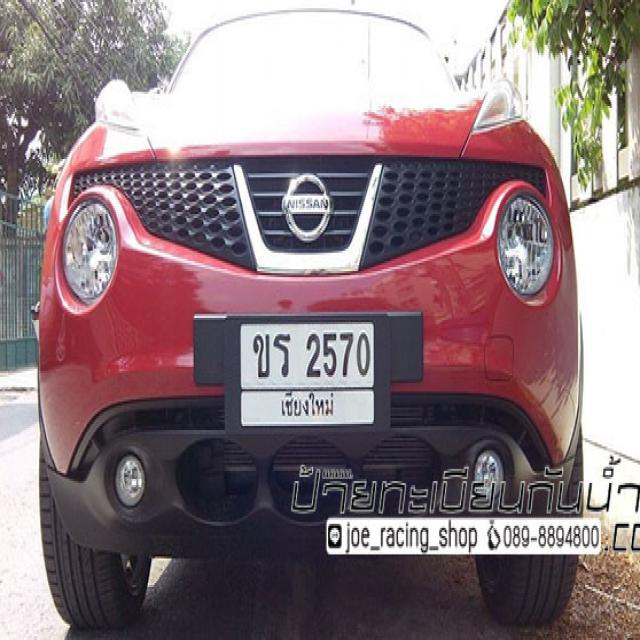license_plate: (222, 315, 392, 432)
